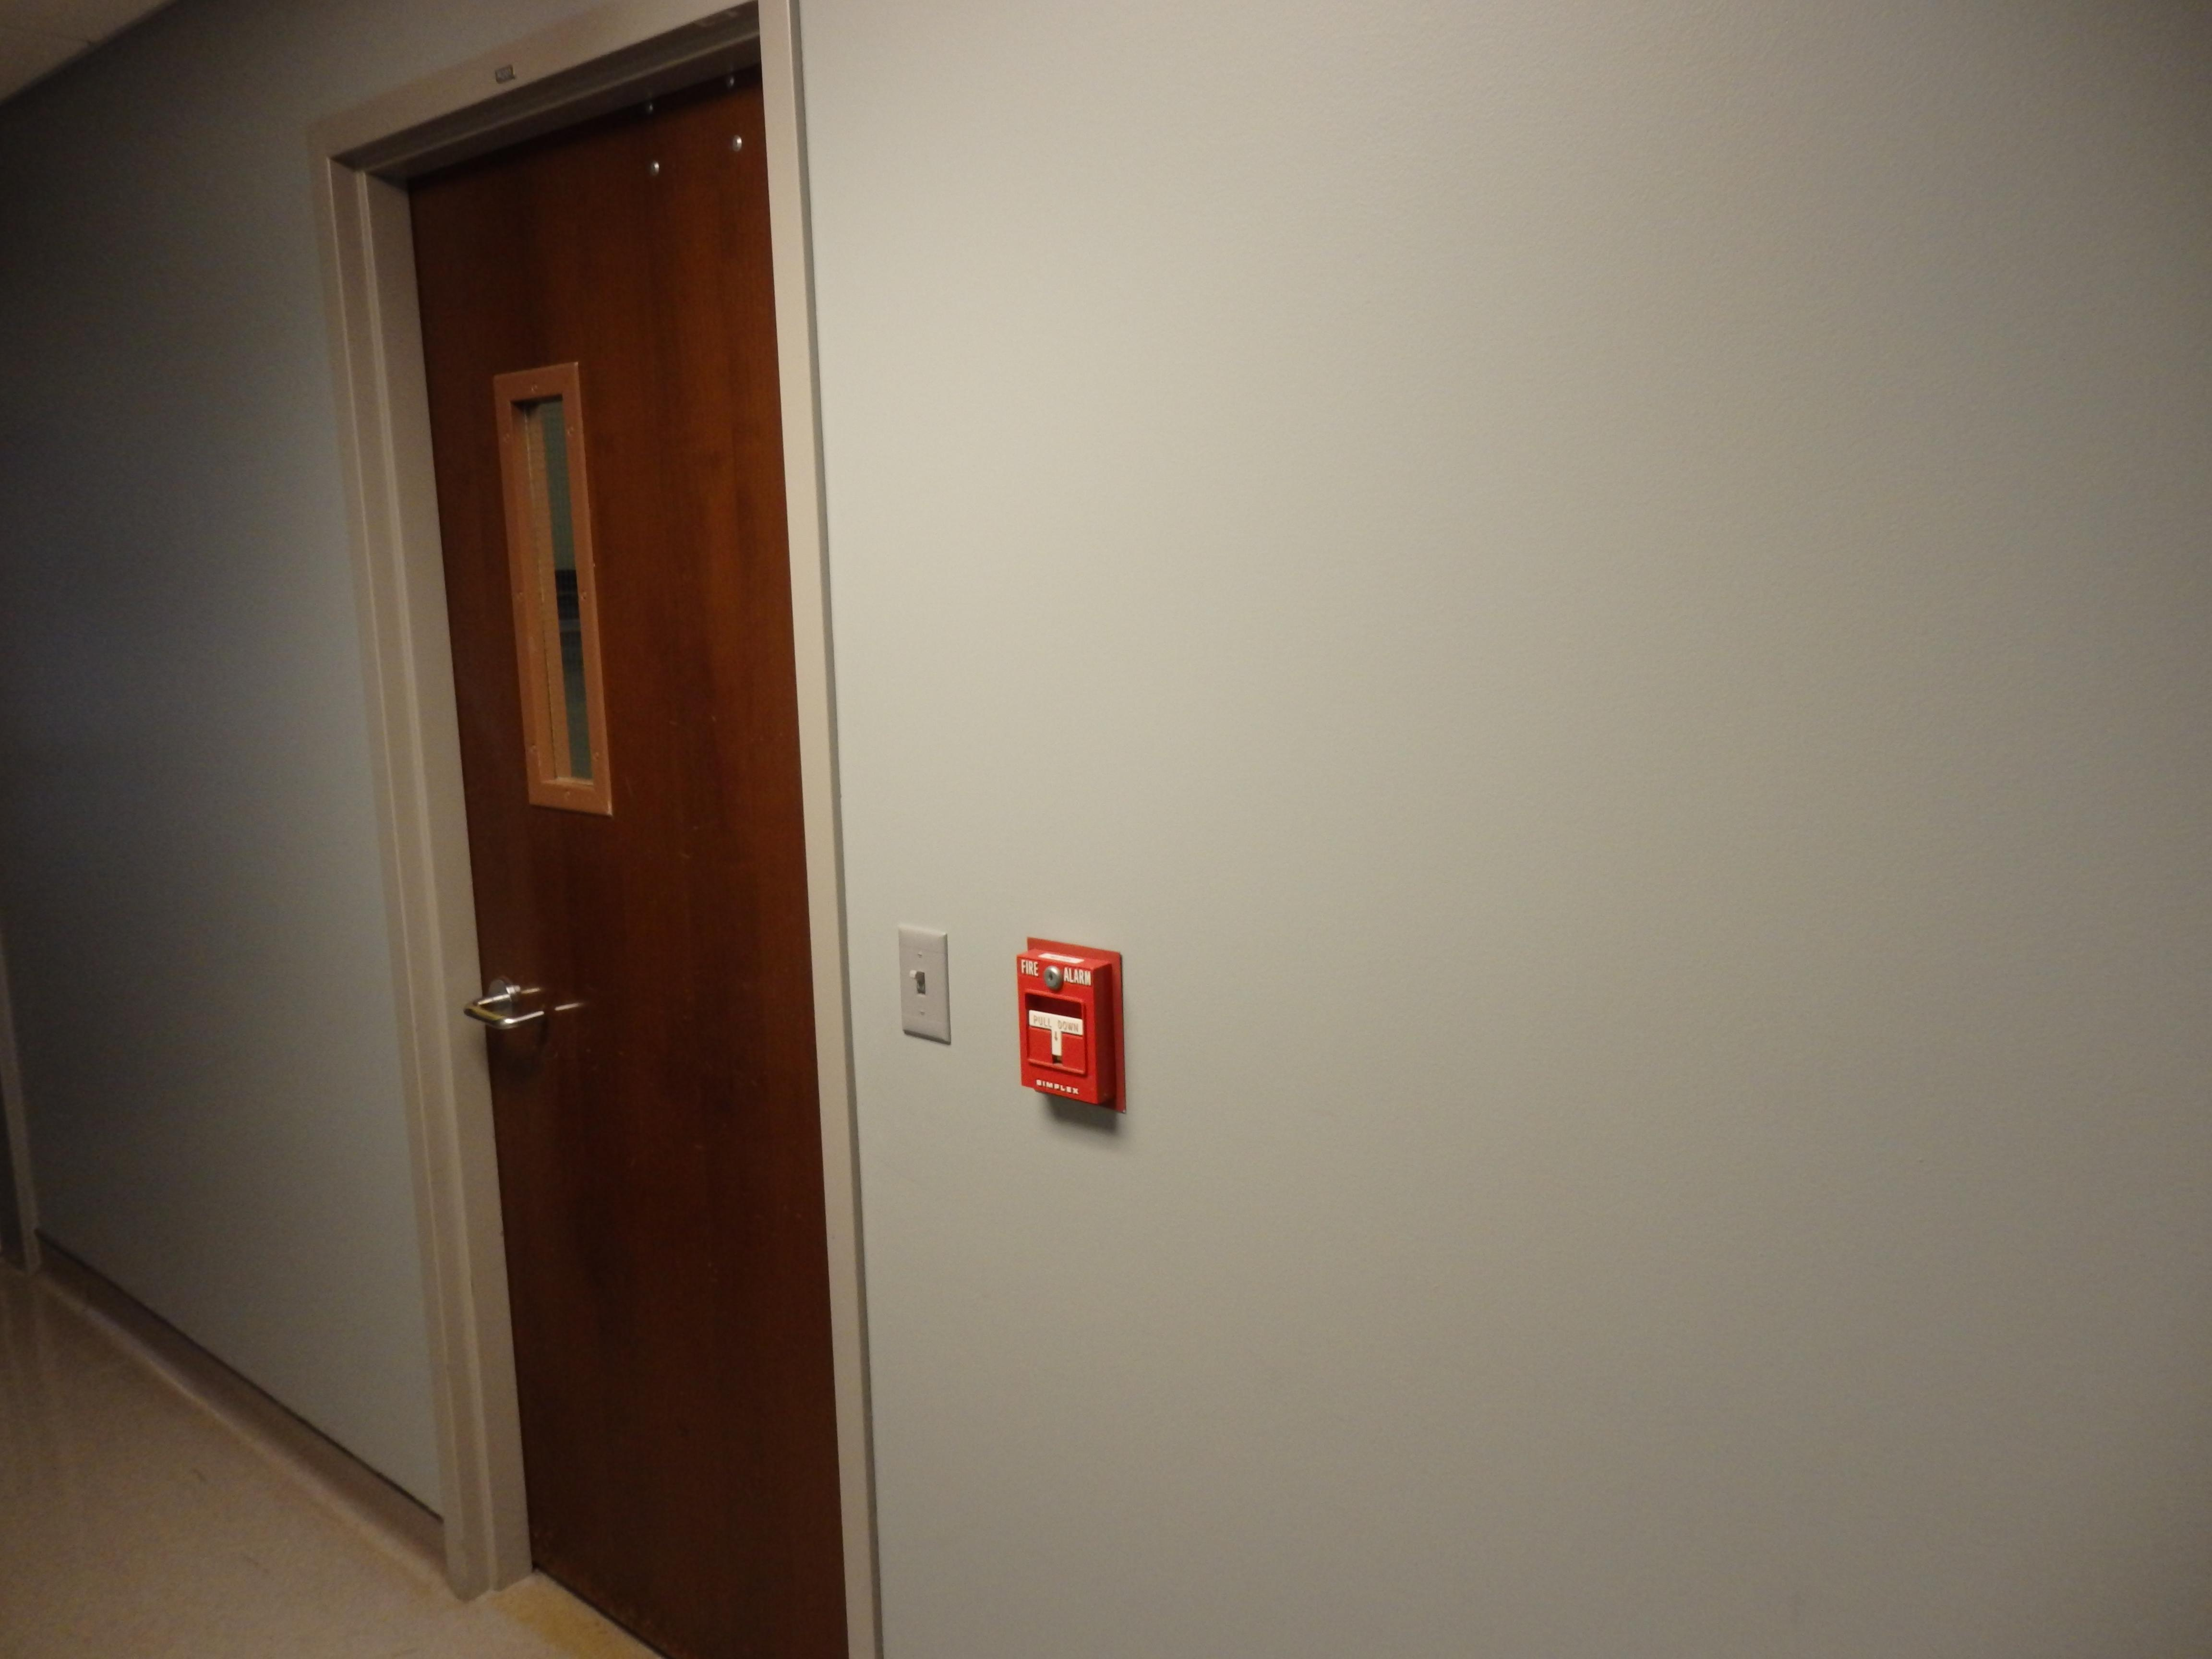handle: (462, 979, 556, 1049)
